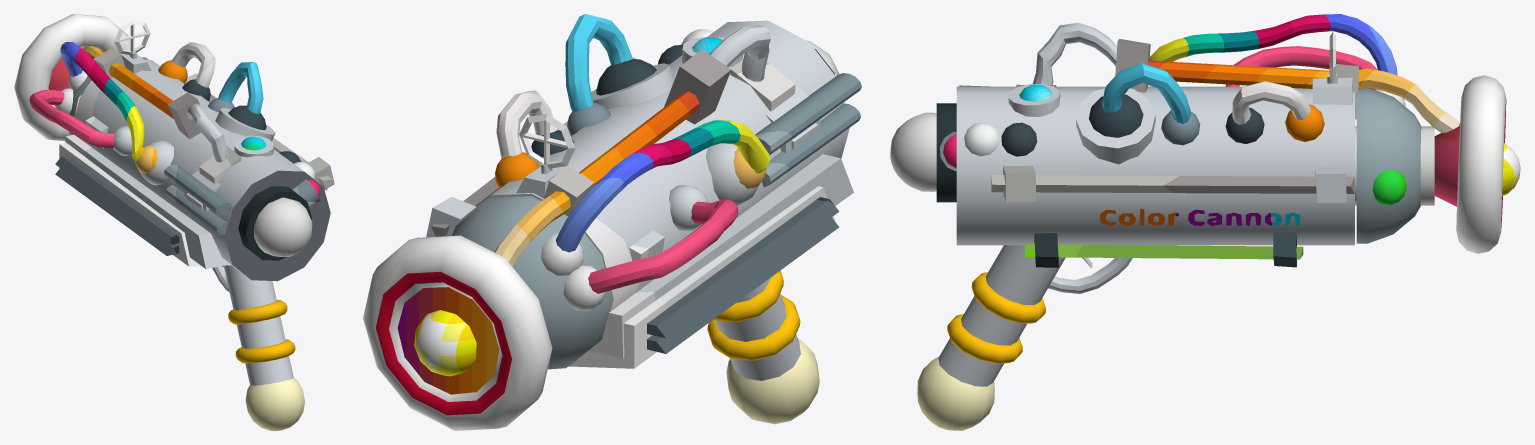
Rendered from color-cannon.fbx.
3 views of the same model, side by side, from view 1: azimuth 30°, elevation 25°; view 2: azimuth 150°, elevation 25°; view 3: azimuth 270°, elevation 25° (orthographic). The views are drawn at different scales.
Visible parts, largest first — view 1: mesh_1076175271_mesh.002, mesh_1076175271_mesh.000; view 2: mesh_1076175271_mesh.002; view 3: mesh_1076175271_mesh.002, mesh_1076175271_mesh.000.
Part boxes in pixels (<box>): mesh_1076175271_mesh.002: <box>14,14,334,430</box>; mesh_1076175271_mesh.000: <box>254,197,312,256</box>; mesh_1076175271_mesh.002: <box>363,14,861,430</box>; mesh_1076175271_mesh.002: <box>917,14,1520,430</box>; mesh_1076175271_mesh.000: <box>890,112,936,191</box>.
Size of the model in its own units: 13.3 by 21.9 by 31.66.
Materials: 1 (1 with a texture image).
